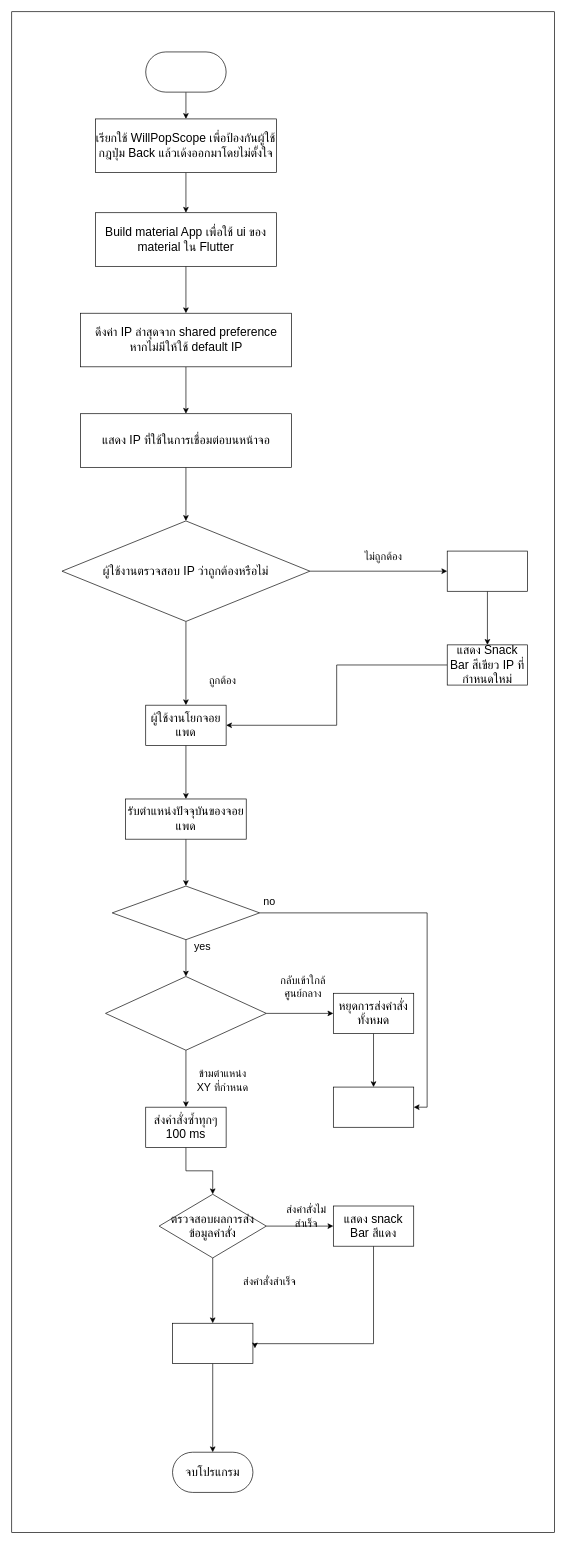
The diagram is 566 pixels wide and 1544 high, and some of its shapes have lost their labels. The shapes that lost their labels are listed below. From the top down, each one's centre as x and y in pixels, then its label:
At [185,71]: "เริ่ม".
At [487,570]: "ผู้ใช้งานตั้งค่า IP ใหม่".
At [186,912]: "ตรวจสอบการปล่อยนิ้ว".
At [185,1013]: "กรองเฉพาะตำแหน่งที่ข้าม XY ที่กำหนด".
At [373,1106]: "ส่งคำสั่ง Stop".
At [212,1343]: "ผู้ใช้งานออกจาก Application".
